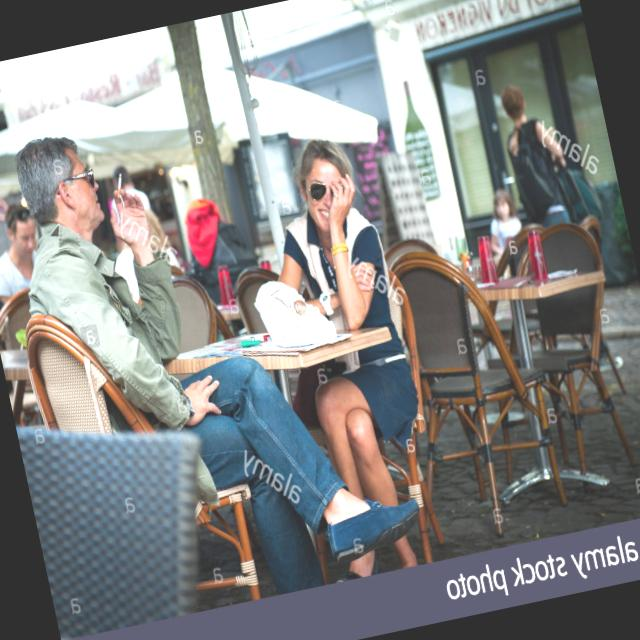smoke: (108, 168, 128, 196)
